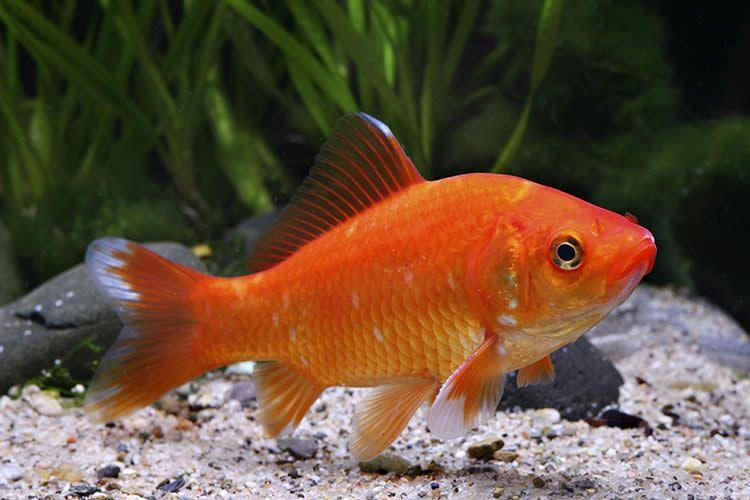Gold Fish: (80, 116, 656, 481)
